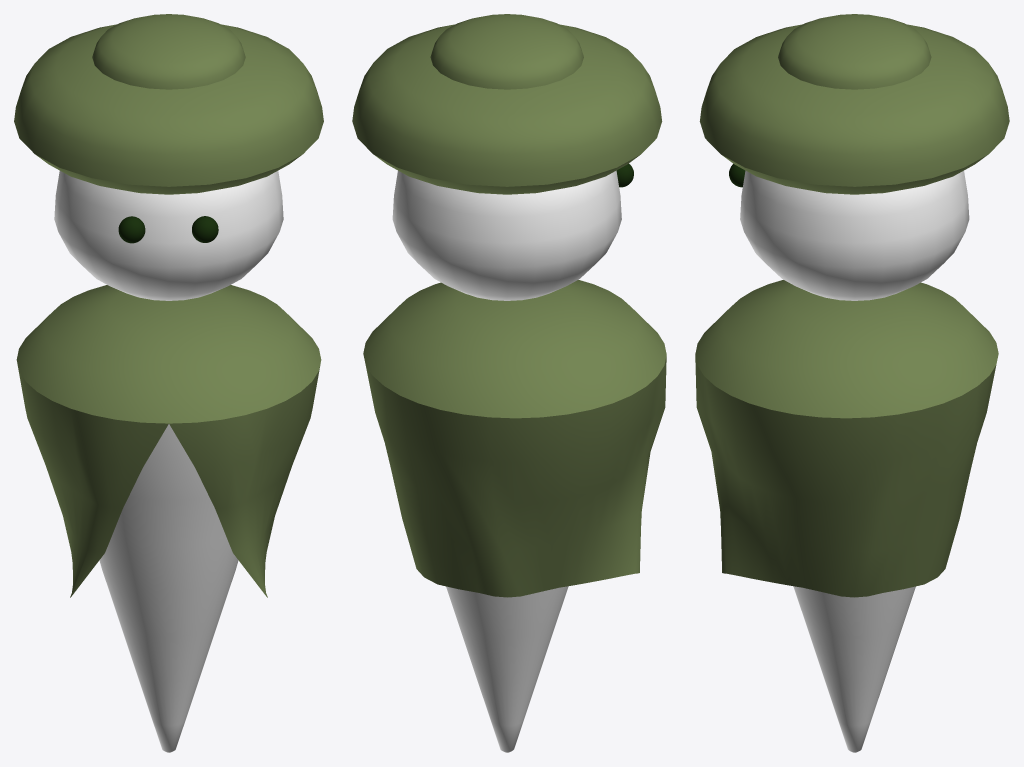
Rendered from pelerin-paisible.fbx.
3 views of the same model, side by side, from view 1: azimuth 30°, elevation 25°; view 2: azimuth 150°, elevation 25°; view 3: azimuth 270°, elevation 25° (orthographic).
Parts seen in each view (by area): view 1: Cône, Sphère, Cône_2, Sphère_2, Sphère_1, pSphere11, pSphere10; view 2: Cône, Sphère, Sphère_2, Cône_2, Sphère_1; view 3: Cône, Sphère, Sphère_2, Cône_2, Sphère_1.
Boxes of the visible parts, <box> form: Cône: <box>16,285,321,597</box>; Sphère: <box>14,24,323,194</box>; Cône_2: <box>99,424,238,752</box>; Sphère_2: <box>54,171,283,300</box>; Sphère_1: <box>92,14,245,89</box>; pSphere11: <box>118,216,145,243</box>; pSphere10: <box>192,216,218,242</box>; Cône: <box>363,280,666,597</box>; Sphère: <box>352,24,662,194</box>; Sphère_2: <box>392,170,621,300</box>; Cône_2: <box>446,586,568,752</box>; Sphère_1: <box>430,14,583,89</box>; Cône: <box>695,280,998,597</box>; Sphère: <box>699,24,1009,194</box>; Sphère_2: <box>740,170,969,300</box>; Cône_2: <box>793,586,915,752</box>; Sphère_1: <box>778,14,931,89</box>.
Bounding box in the file's own units: 4.37 × 11.19 × 4.41.
